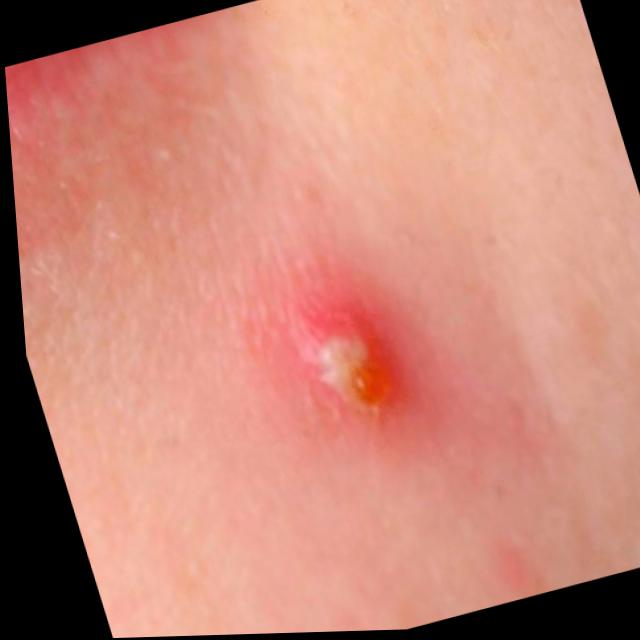pustule: (249, 269, 412, 456)
